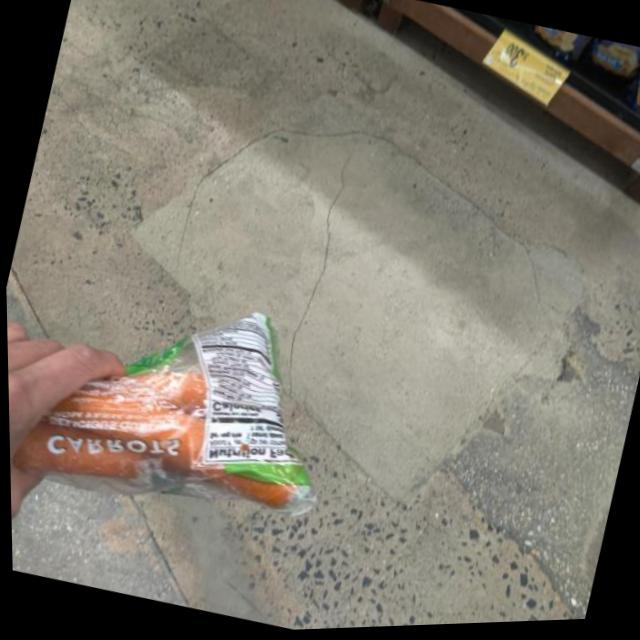Carrots: (5, 252, 340, 568)
